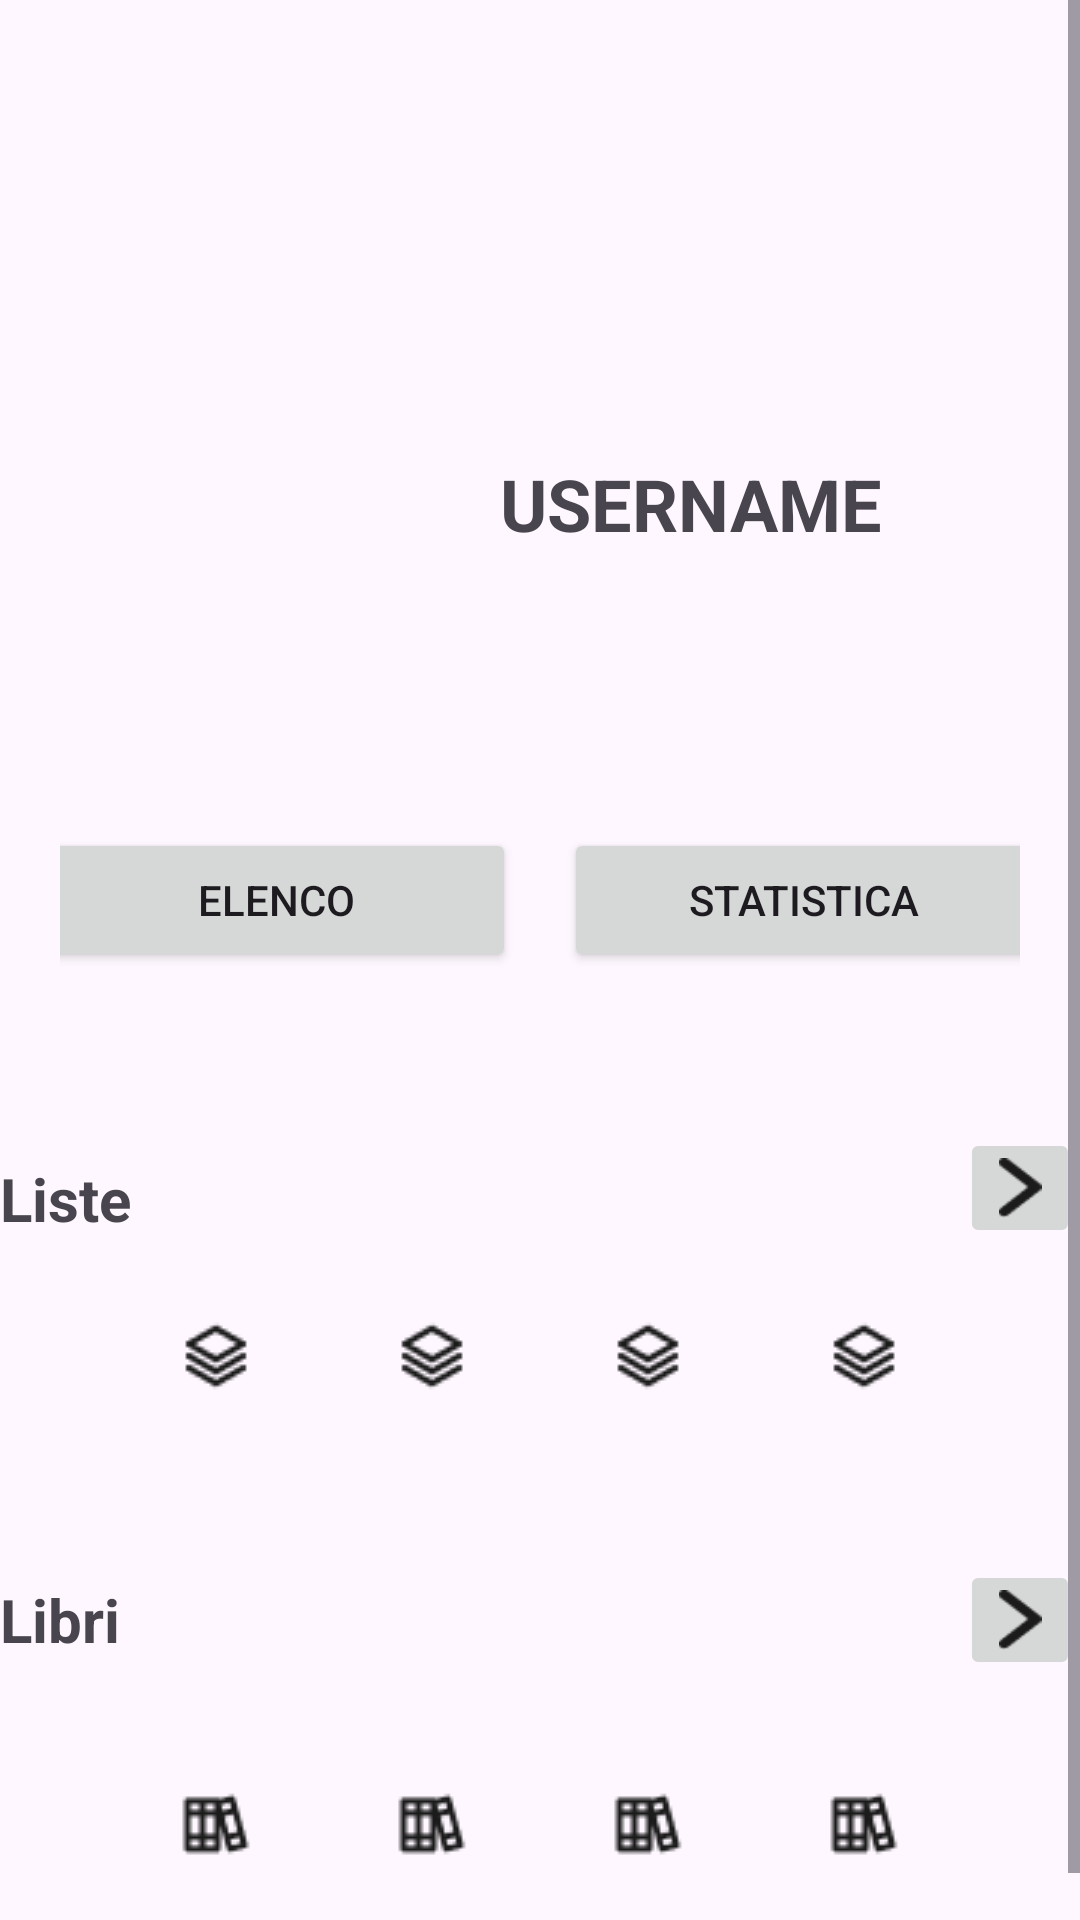

Icon bounding boxes for this 1080 x 1920 phone screenshot, format bbox=[x1, y1, x2, y2]:
books: bbox=[182, 1794, 250, 1855], bbox=[398, 1794, 466, 1855], bbox=[614, 1794, 682, 1855], bbox=[830, 1794, 898, 1855]
layergroup: bbox=[185, 1324, 247, 1388], bbox=[401, 1324, 463, 1388], bbox=[617, 1324, 679, 1388], bbox=[833, 1324, 895, 1388]
